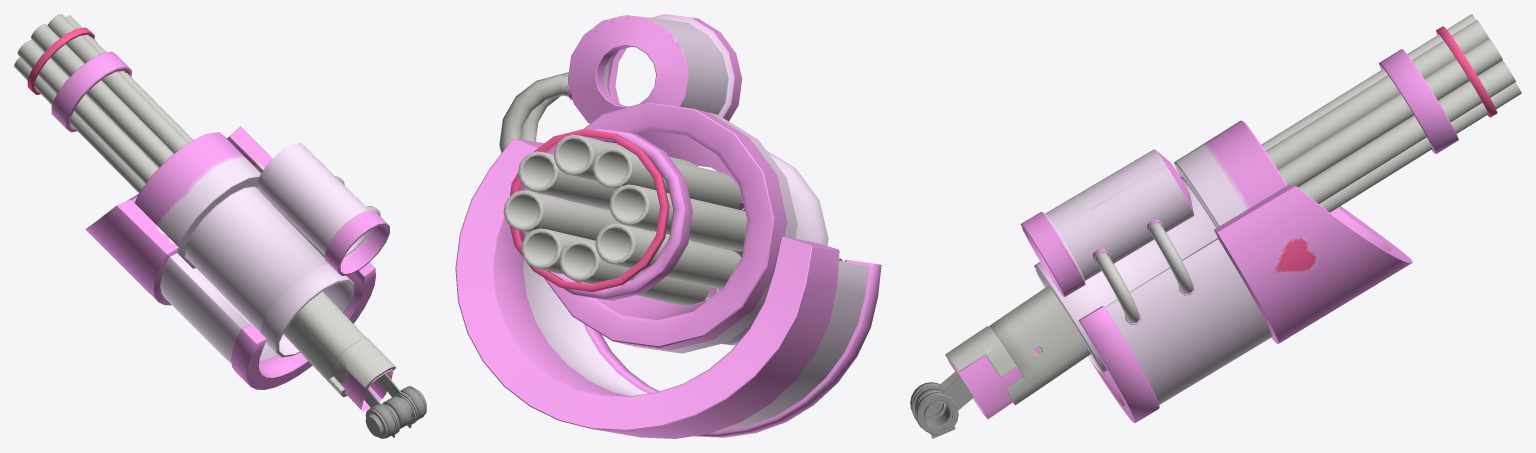
File: battle_cat_arm_v1.fbx
3 views of the same model, side by side, from view 1: azimuth 30°, elevation 25°; view 2: azimuth 150°, elevation 25°; view 3: azimuth 270°, elevation 25° (orthographic). The views are drawn at different scales.
Visible parts, largest first — view 1: Object406; view 2: Object406; view 3: Object406.
Boxes of the visible parts, left/top/right/bottom form: Object406: left=14, top=14, right=426, bottom=438; Object406: left=455, top=14, right=881, bottom=438; Object406: left=910, top=14, right=1521, bottom=438.
Size of the model in its own units: 111 by 140 by 224.
